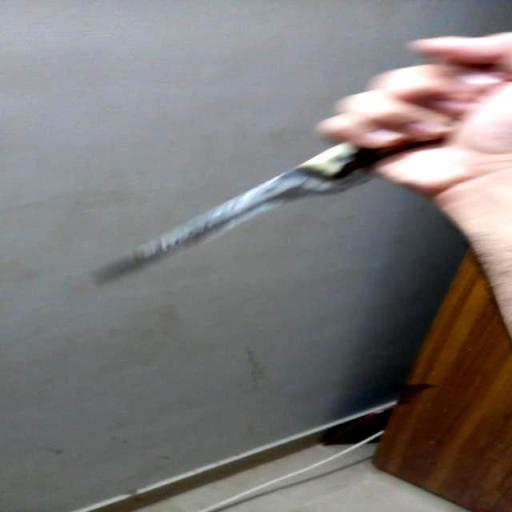knife: (86, 75, 511, 275)
